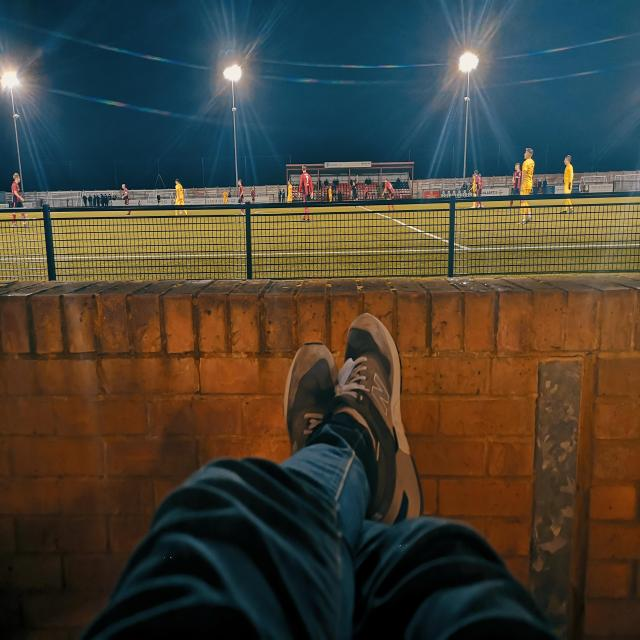shoe: (337, 314, 425, 528), (285, 342, 337, 453)
